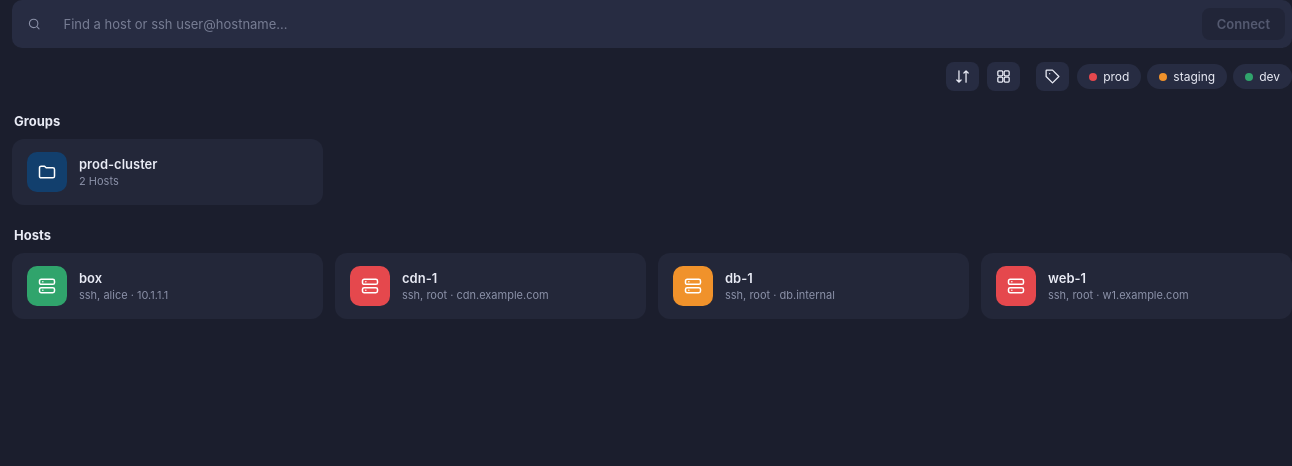
Test case: HostList: Grid / List view › List shows the same hosts as rows, closes the menu, and is remembered
Click the button named "View" at (1004, 76), box [987,62,1020,91]
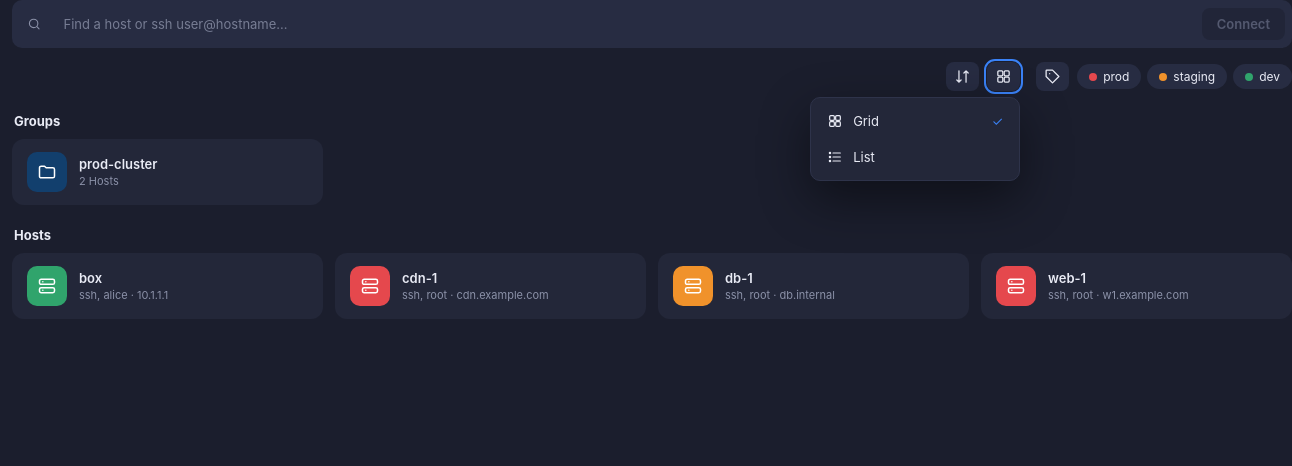
Click the menu item "List" at (915, 157), box [817,140,1013,174]
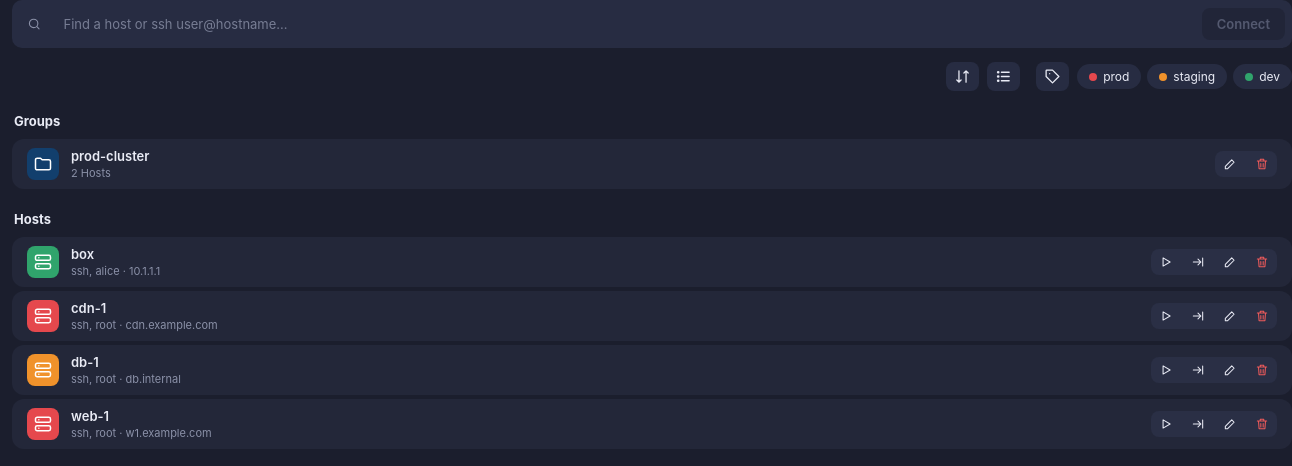
Expected: the menu is gone
